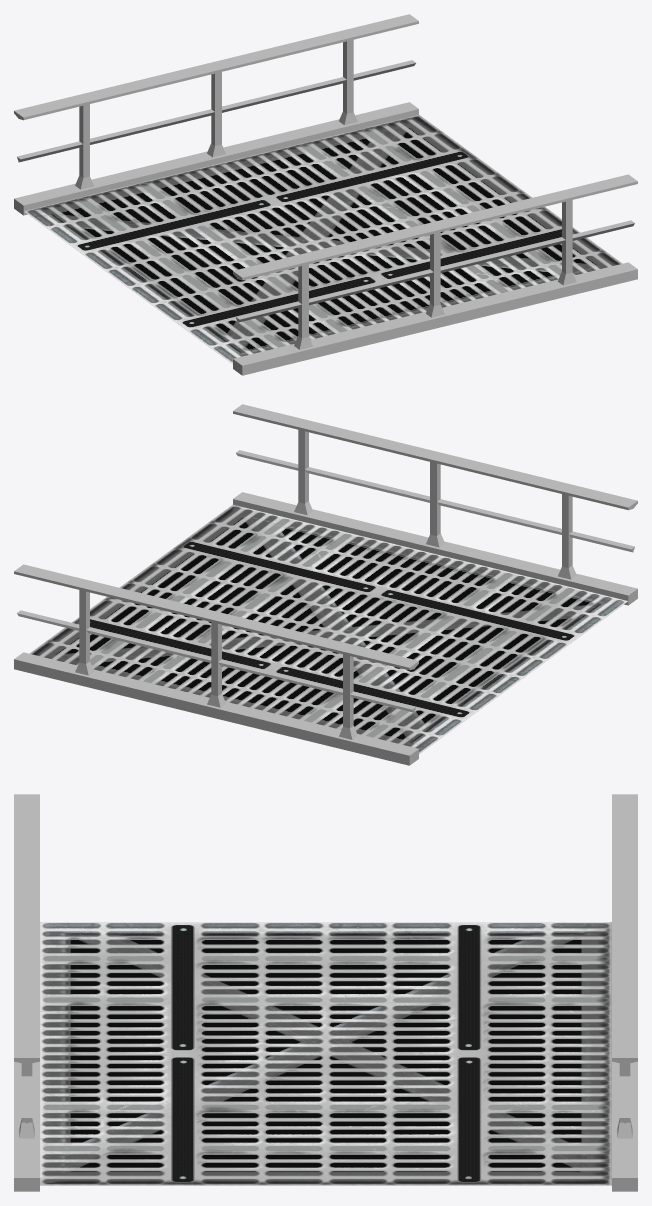
The model's file is PlateForm_Line_01.FBX.
3 renders of one model, top to bottom at view 1: azimuth 30°, elevation 25°; view 2: azimuth 150°, elevation 25°; view 3: azimuth 270°, elevation 25°, orthographic. The views are drawn at different scales.
Visible parts, largest first — view 1: PlateForm_Line_01; view 2: PlateForm_Line_01; view 3: PlateForm_Line_01.
Boxes of the visible parts, x1,y1,x2,y2 form: PlateForm_Line_01: [14, 14, 637, 375]; PlateForm_Line_01: [14, 404, 637, 765]; PlateForm_Line_01: [14, 794, 637, 1191].
Size of the model in its own units: 6 by 1.42 by 6.
